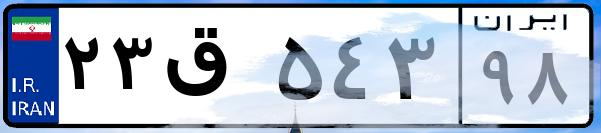2: (57, 26, 110, 100)
3: (385, 28, 445, 110), (110, 28, 158, 98)
4: (330, 28, 385, 110)
5: (270, 28, 330, 110)
8: (525, 38, 570, 115)
9: (475, 38, 525, 113)
ق: (158, 20, 270, 120)
